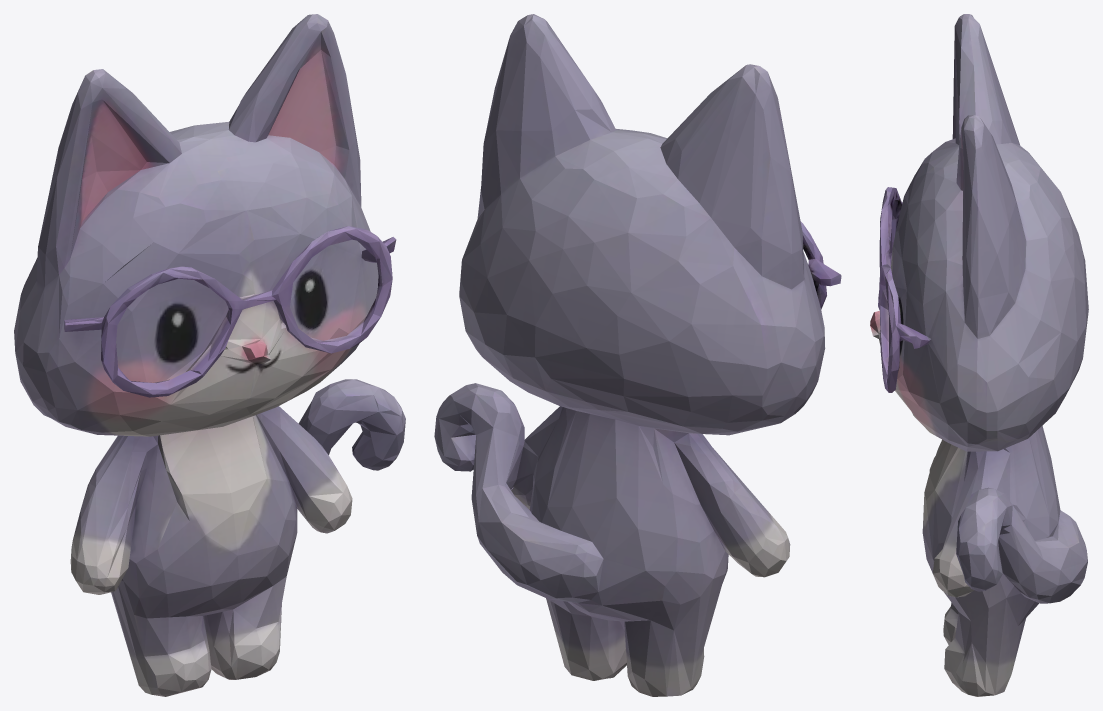
Rendered from nabi.glb.
3 views of the same model, side by side, from view 1: azimuth 30°, elevation 25°; view 2: azimuth 150°, elevation 25°; view 3: azimuth 270°, elevation 25° (orthographic). The views are drawn at different scales.
Parts seen in each view (by area): view 1: geometry_0; view 2: geometry_0; view 3: geometry_0.
Part boxes in pixels (x1,y1,x2,y2): geometry_0: [14, 14, 405, 696]; geometry_0: [434, 14, 841, 696]; geometry_0: [870, 14, 1088, 696].
Bounding box in the file's own units: 0.618 × 0.9988 × 0.3289.
Materials: 1 (1 with a texture image).
